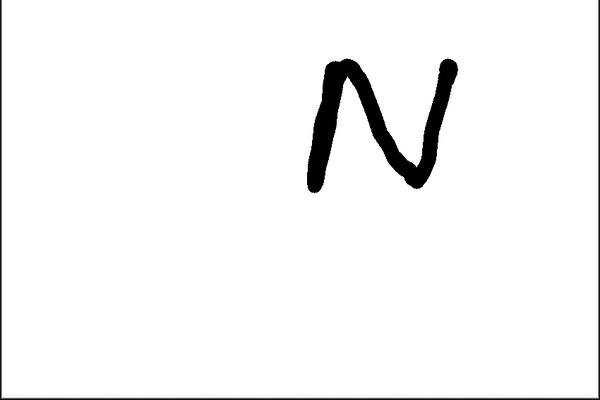N: (301, 50, 463, 198)
